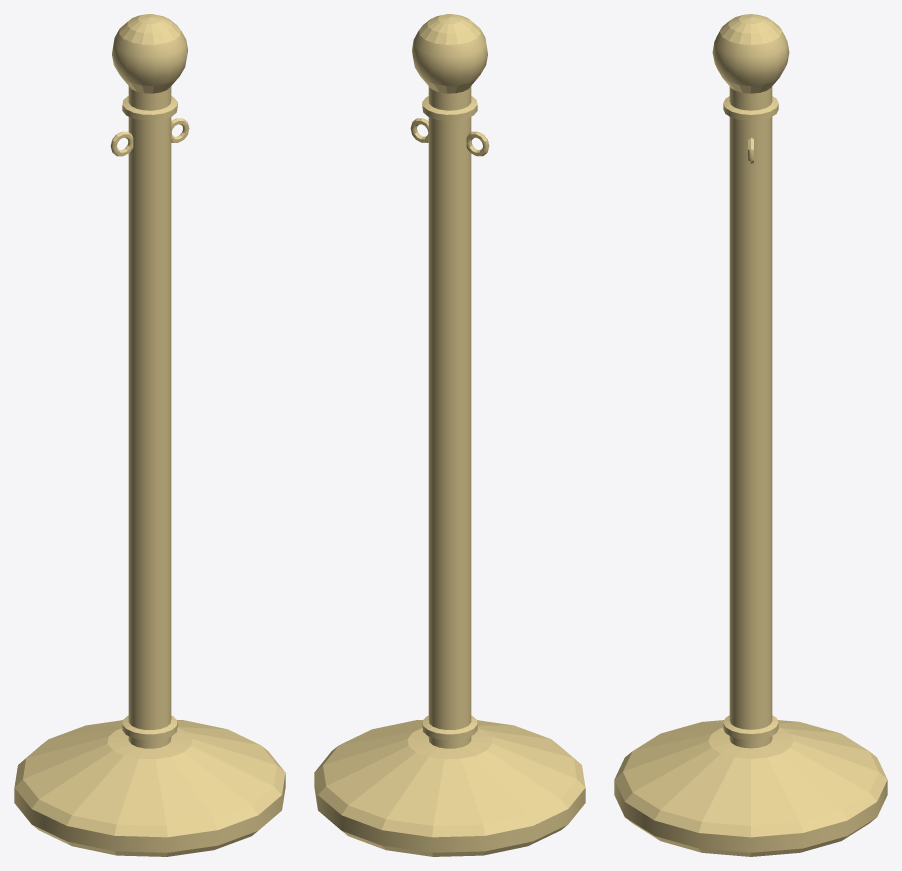
The model's file is bb_set_stanchion.fbx.
The picture shows the model from 3 angles, left to right: view 1: azimuth 30°, elevation 25°; view 2: azimuth 150°, elevation 25°; view 3: azimuth 270°, elevation 25°; orthographic projection.
Visible parts, largest first — view 1: bb_set_stanchion; view 2: bb_set_stanchion; view 3: bb_set_stanchion.
Part boxes in pixels (x1,y1,x2,y2): bb_set_stanchion: (14,14,285,856); bb_set_stanchion: (314,14,585,856); bb_set_stanchion: (614,14,887,856).
Bounding box in the file's own units: 0.32 × 1.01 × 0.32.
